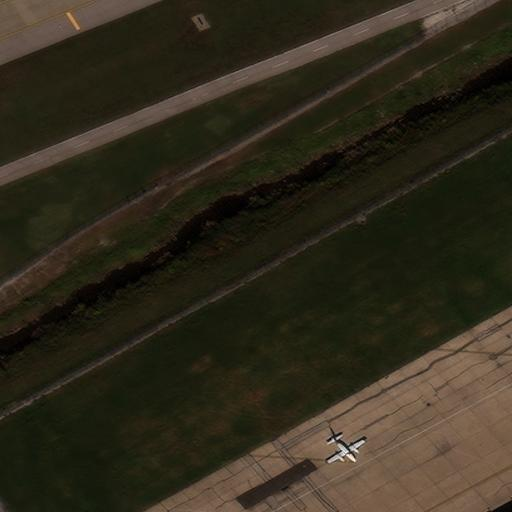Small Civil Transport: (328, 436, 365, 463)
